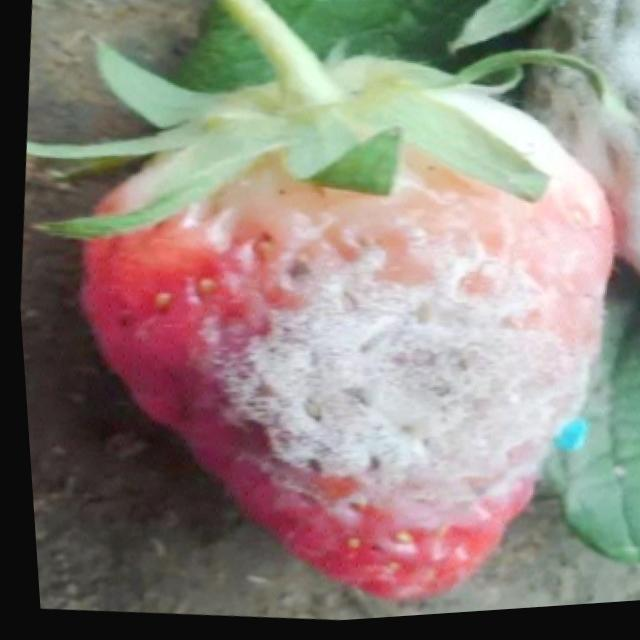Gray Mold: (126, 106, 609, 606), (517, 0, 640, 292)
